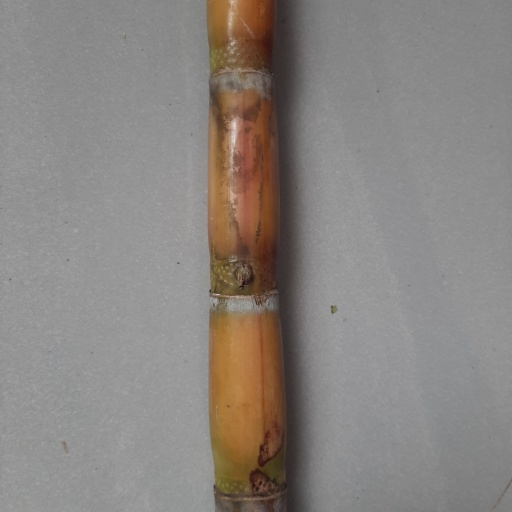Bud: (231, 259, 257, 291)
